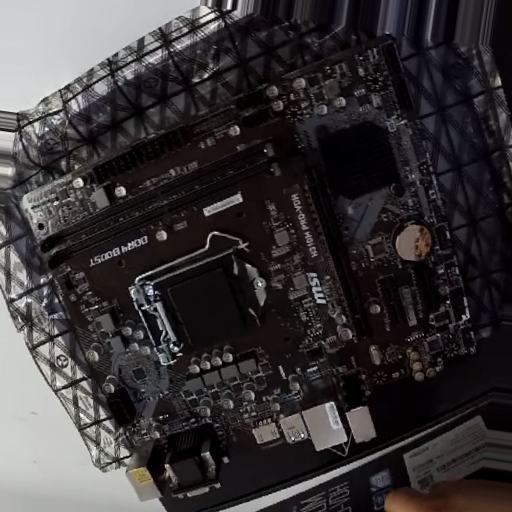CPU: (137, 254, 269, 360)
GPU: (302, 167, 371, 342)
MOTHERBOARD: (25, 34, 476, 466)
RAM: (42, 140, 287, 273)
